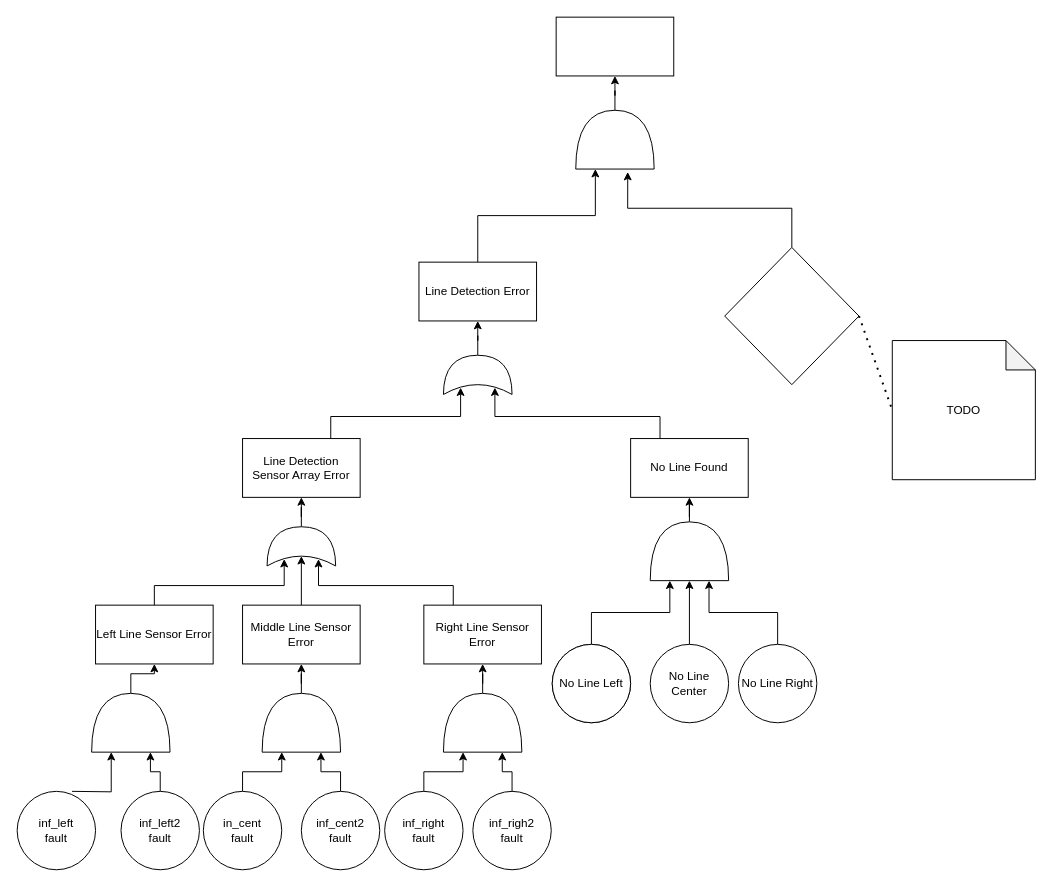
Image size: 1053x887. Some labels were removed from this diagram. Here are the shapes that lost their labels. From the top down, the box of each, then its label:
(555, 16, 674, 76): Drive Off Track "Final Safe State"
(724, 246, 859, 385): Curb Detection Error
